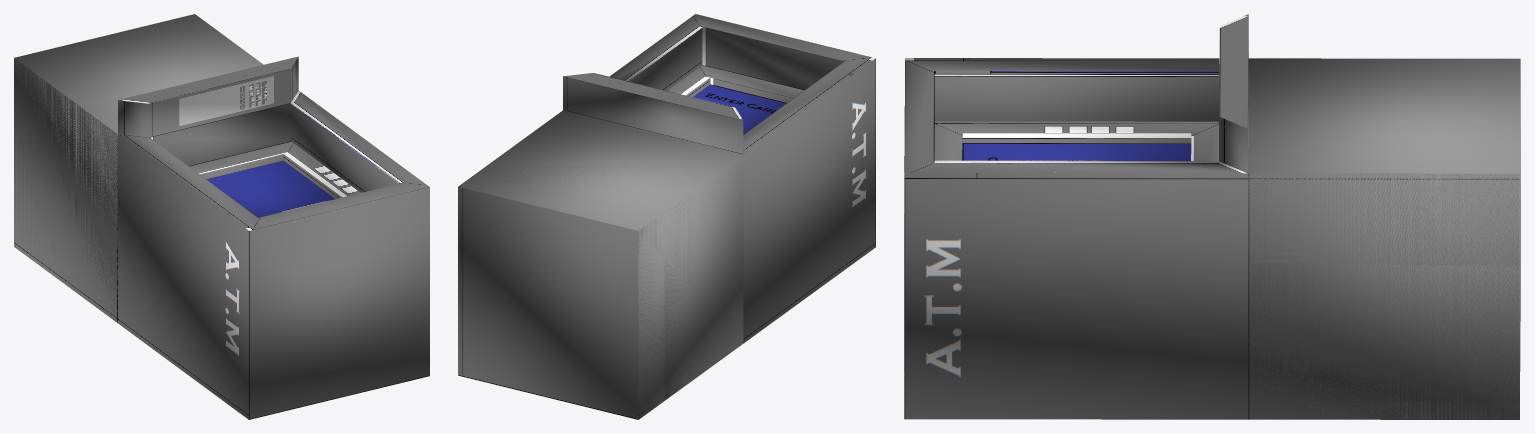
The model's file is atm.fbx.
3 renders of one model, left to right at view 1: azimuth 30°, elevation 25°; view 2: azimuth 150°, elevation 25°; view 3: azimuth 270°, elevation 25°, orthographic. The views are drawn at different scales.
Visible parts, largest first — view 1: cube1, cube2; view 2: cube1, cube2; view 3: cube1, cube2.
Part boxes in pixels (left/top/right/bottom): cube1: left=14, top=56, right=429, bottom=419; cube2: left=14, top=14, right=263, bottom=322; cube1: left=458, top=14, right=875, bottom=419; cube2: left=458, top=110, right=743, bottom=419; cube1: left=904, top=14, right=1520, bottom=419; cube2: left=1248, top=58, right=1520, bottom=419.
Bounding box in the file's own units: 12.06 × 14.15 × 27.17.
